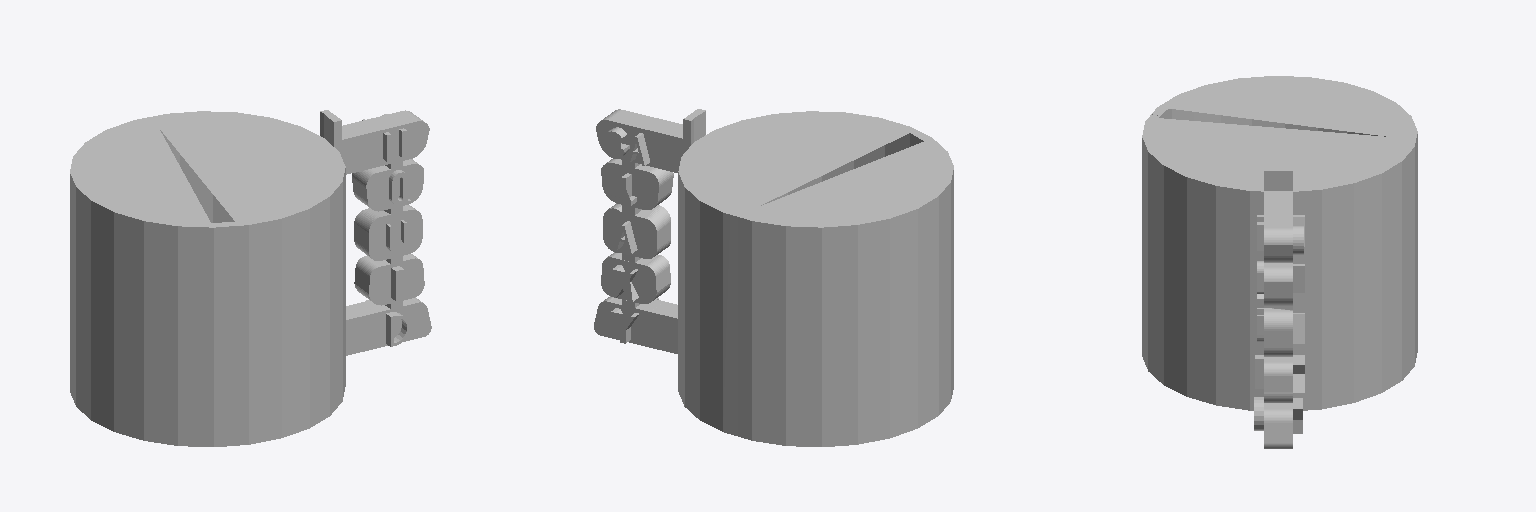
The model's file is Liquid Galaxy Project-Cup-obj.obj.
3 renders of one model, left to right at view 1: azimuth 30°, elevation 25°; view 2: azimuth 150°, elevation 25°; view 3: azimuth 270°, elevation 25°, orthographic.
Parts seen in each view (by area): view 1: Mesh1 Model; view 2: Mesh1 Model; view 3: Mesh1 Model.
Boxes of the visible parts, x1=… form: Mesh1 Model: x1=70, y1=110, x2=431, y2=446; Mesh1 Model: x1=594, y1=109, x2=953, y2=446; Mesh1 Model: x1=1142, y1=76, x2=1417, y2=448.
Size of the model in its own units: 147 by 103 by 105.